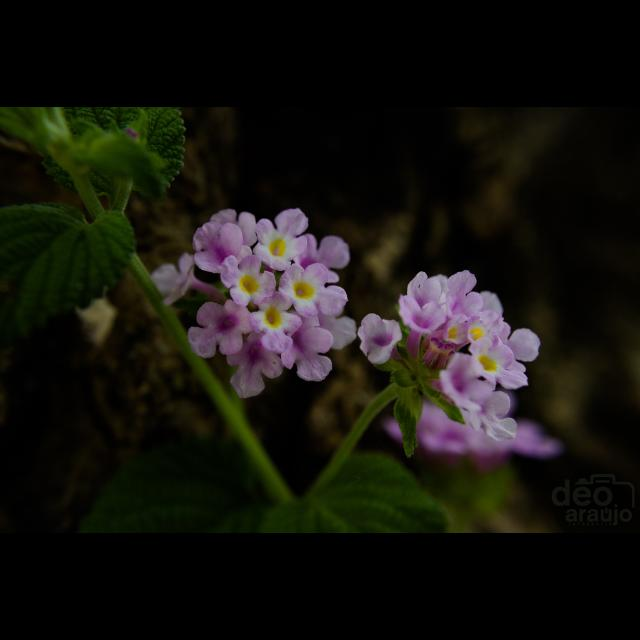Flower: (186, 198, 354, 416), (354, 266, 542, 448)
